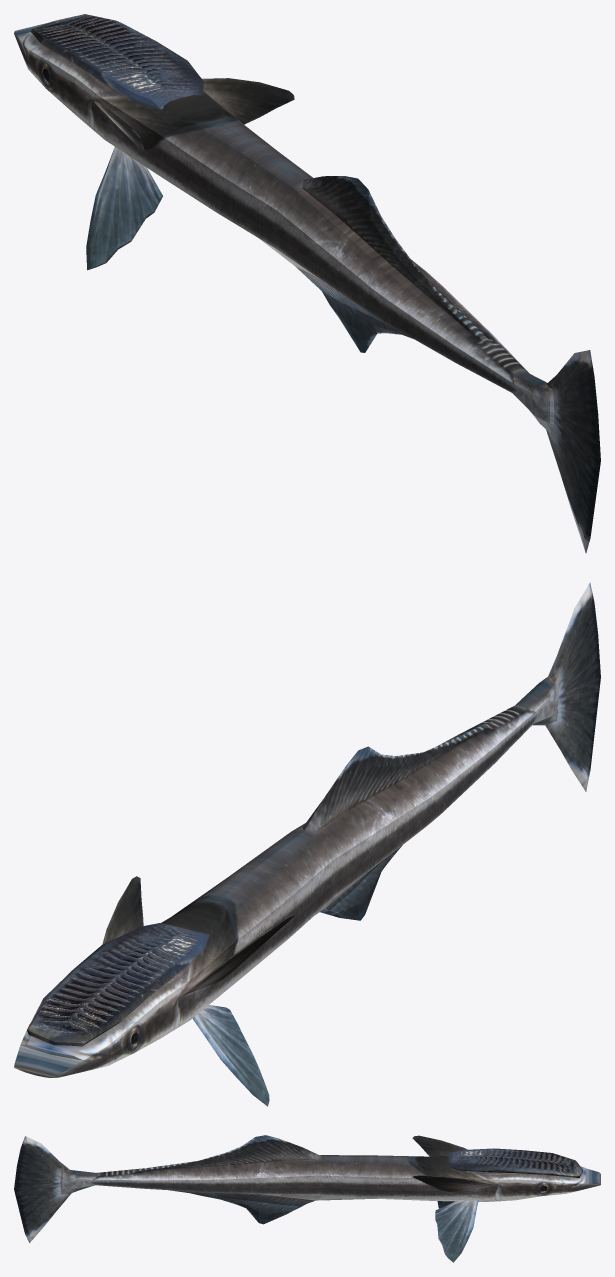
Rendered from echeneis-naucrates.glb.
3 views of the same model, one above another, from view 1: azimuth 30°, elevation 25°; view 2: azimuth 150°, elevation 25°; view 3: azimuth 270°, elevation 25° (orthographic). The views are drawn at different scales.
Parts seen in each view (by area): view 1: live sharksucker, pelvic.l, pectoral.r; view 2: live sharksucker, pelvic.l, pectoral.r, pectoral.l; view 3: live sharksucker, pelvic.r, pectoral.r, pectoral.l.
Boxes of the visible parts, x1,y1,x2,y2 form: live sharksucker: (14, 14, 600, 553); pelvic.l: (86, 147, 162, 270); pectoral.r: (202, 78, 294, 124); live sharksucker: (14, 582, 600, 1077); pelvic.l: (192, 1005, 269, 1106); pectoral.r: (102, 876, 143, 944); pectoral.l: (181, 914, 294, 996); live sharksucker: (14, 1135, 600, 1242); pelvic.r: (435, 1200, 478, 1262); pectoral.r: (412, 1175, 494, 1191); pectoral.l: (412, 1135, 467, 1156).
Size of the model in its own units: 1.22 by 1.34 by 6.6.
Materials: 2 (2 with a texture image).
